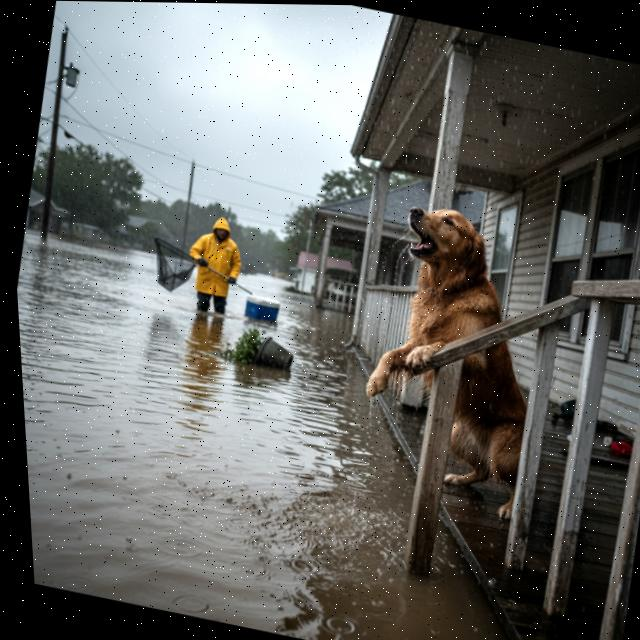civilian: (173, 207, 262, 329)
dog: (325, 190, 596, 545)
